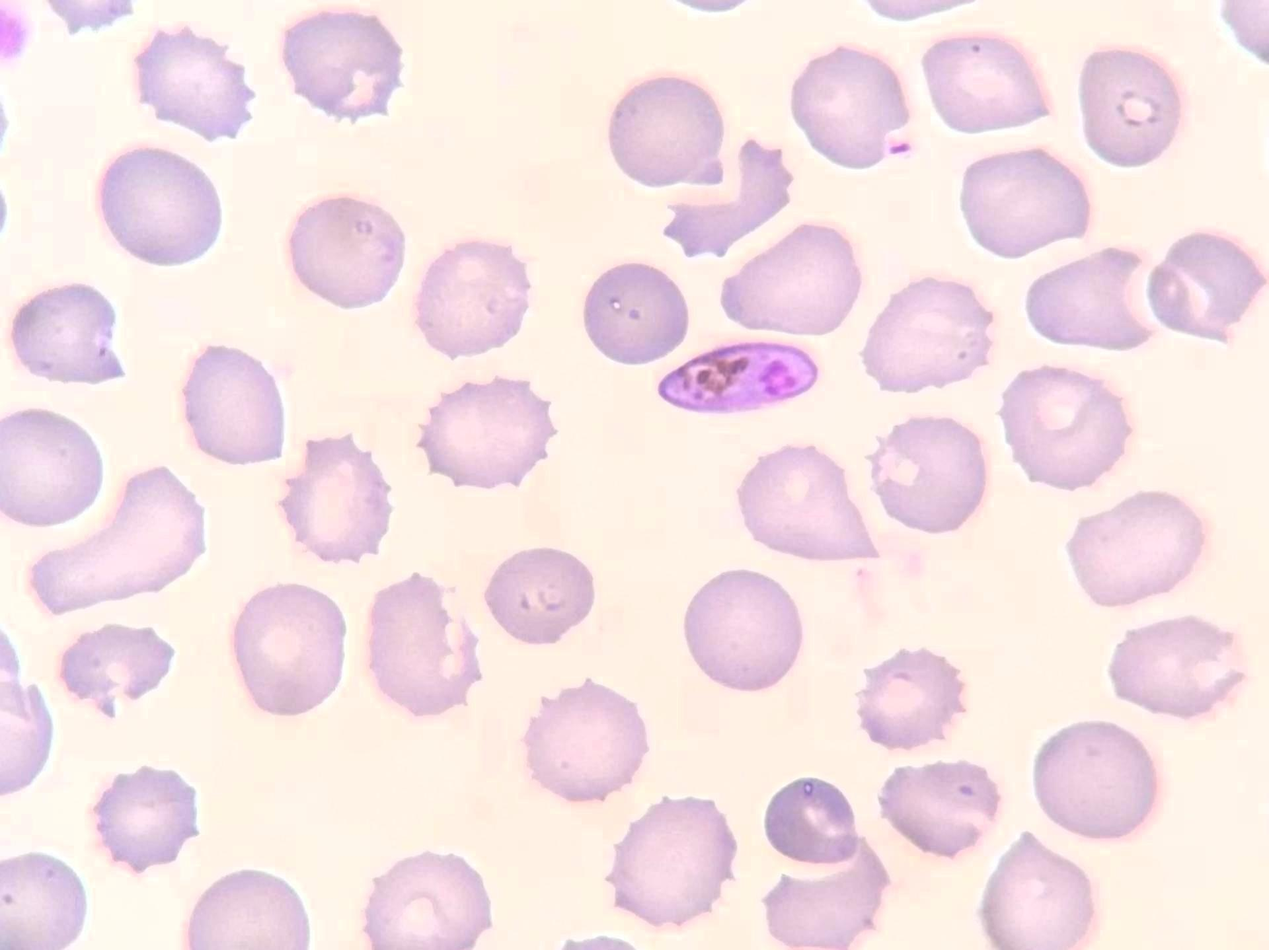Infected: (659, 343, 820, 414)
Uninfected: (35, 464, 204, 612), (744, 441, 884, 564), (365, 573, 482, 720), (1069, 488, 1202, 611), (719, 223, 865, 333), (661, 139, 792, 259), (97, 144, 223, 268), (611, 798, 730, 929), (1024, 243, 1165, 353), (1005, 364, 1128, 490), (233, 582, 347, 716), (1036, 719, 1160, 842), (524, 679, 648, 802), (790, 45, 913, 168), (421, 382, 557, 490), (866, 276, 993, 391), (958, 146, 1086, 259), (686, 568, 804, 689), (131, 28, 253, 144), (1145, 230, 1265, 346), (415, 235, 532, 353), (610, 71, 724, 192), (283, 438, 392, 564), (977, 834, 1095, 950), (924, 32, 1054, 136), (281, 15, 405, 124), (1109, 616, 1238, 718), (289, 197, 407, 308), (874, 418, 985, 531), (0, 407, 103, 527), (763, 849, 885, 950), (185, 346, 284, 469), (13, 283, 130, 386), (1079, 49, 1181, 167), (91, 765, 199, 875), (877, 758, 999, 855), (583, 261, 692, 365), (863, 648, 967, 753), (486, 545, 594, 645), (63, 620, 171, 714), (188, 871, 311, 950), (0, 849, 84, 950), (765, 778, 858, 866)
